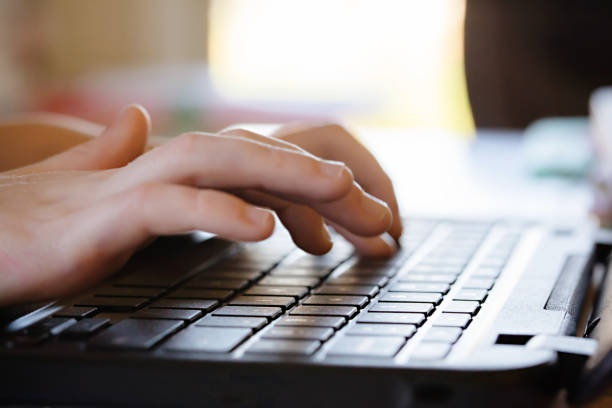keyboard: (10, 223, 521, 364)
